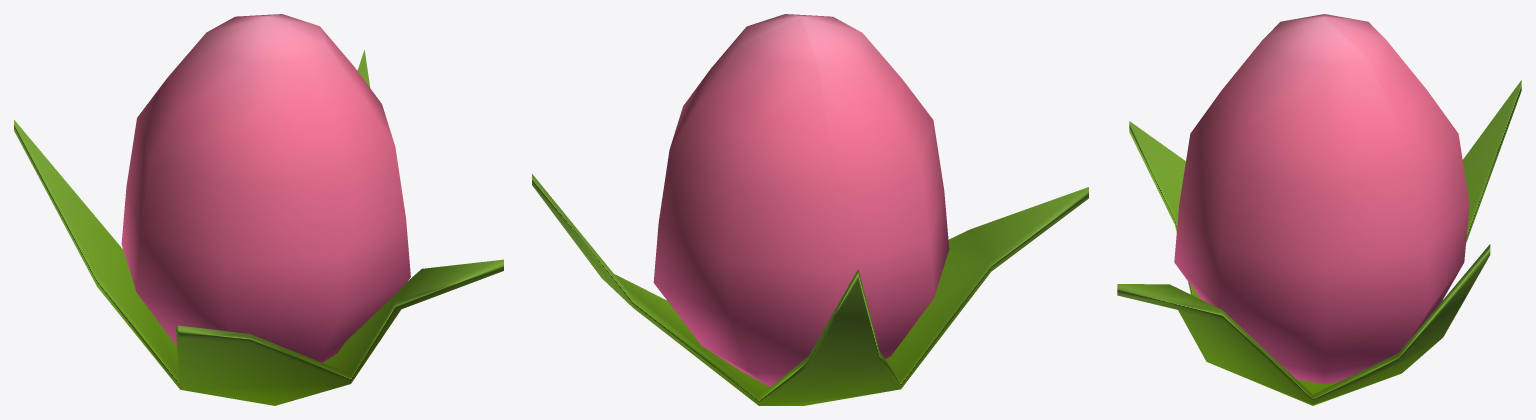
Rendered from FlowerBud.fbx.
The picture shows the model from 3 angles, left to right: view 1: azimuth 30°, elevation 25°; view 2: azimuth 150°, elevation 25°; view 3: azimuth 270°, elevation 25°; orthographic projection. The views are drawn at different scales.
Visible parts, largest first — view 1: FlowerBud; view 2: FlowerBud; view 3: FlowerBud.
Boxes of the visible parts, x1,y1,x2,y2 form: FlowerBud: [14, 14, 503, 405]; FlowerBud: [532, 14, 1088, 405]; FlowerBud: [1117, 14, 1521, 405].
Size of the model in its own units: 2.6 by 2.63 by 2.49.
